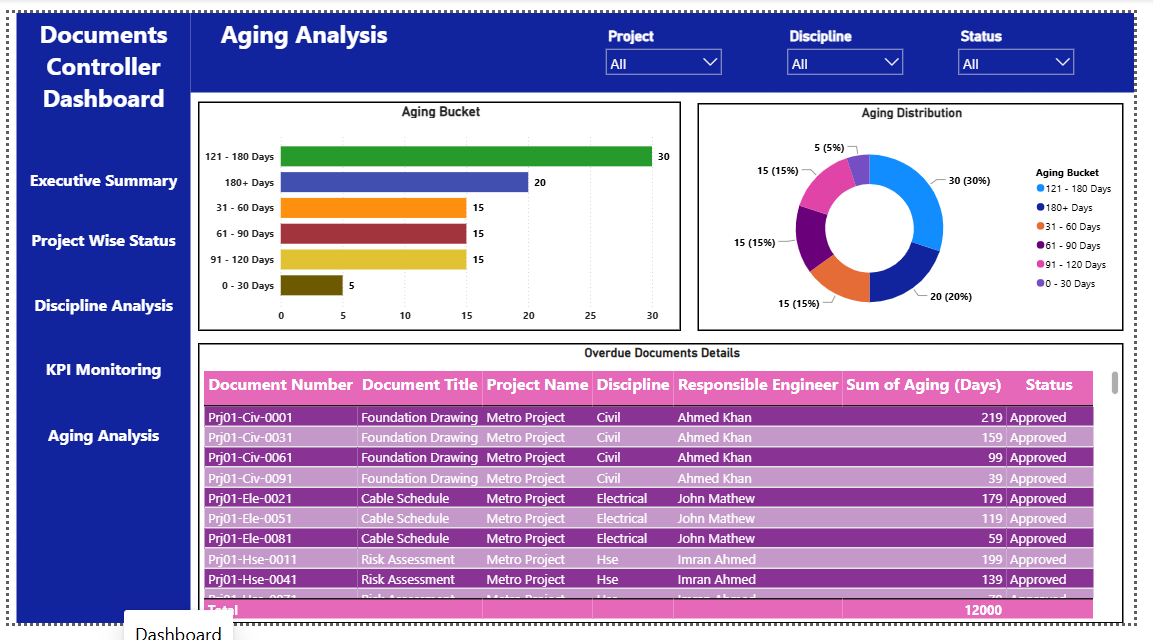

The dashboard page shown, as its layout file describes it:
{"tool":"powerbi","page":{"name":"Aging Analysis","canvas":[1500,813],"ordinal":4},"visuals":[{"type":"group","id":"g1","title":"Group 1","box":[10,0,232,816],"z":0},{"type":"textbox","box":[10,0,232,816],"z":0,"group":"g1"},{"type":"textbox","box":[242,0,1258,106],"z":1000},{"type":"actionButton","box":[10,187.6,232,67.5],"z":1000,"group":"g1"},{"type":"slicer","fields":{"Values":["Document Register.Project Name"]},"box":[786,14,174.1,79.3],"z":2000},{"type":"actionButton","box":[10,268.2,232,67.5],"z":2000,"group":"g1"},{"type":"slicer","fields":{"Values":["Document Register.Status"]},"box":[1256,14,174.1,79.3],"z":3000},{"type":"actionButton","box":[10,354.5,232,67.5],"z":3000,"group":"g1"},{"type":"slicer","fields":{"Values":["Document Register.Discipline"]},"box":[1028,14,174.1,79.3],"z":4000},{"type":"actionButton","box":[10,440.8,232,67.5],"z":4000,"group":"g1"},{"type":"clusteredBarChart","title":"Aging Bucket","fields":{"Category":["Document Register.Aging Bucket"],"Y":["CountNonNull(Document Register.Document Number)"]},"box":[252,118,644,306],"z":5000},{"type":"actionButton","box":[10,527.1,232,67.5],"z":5000,"group":"g1"},{"type":"donutChart","title":"Aging Distribution","fields":{"Category":["Document Register.Aging Bucket"],"Y":["Document Register.Document Count"]},"box":[918,120,568,304],"z":6000},{"type":"tableEx","title":"Overdue Documents Details","fields":{"Values":["Document Register.Document Number","Document Register.Document Title","Document Register.Project Name","Document Register.Discipline","Document Register.Responsible Engineer","Sum(Document Register.Aging (Days))","Document Register.Status"]},"box":[252,440,1234,374],"z":7000}]}

Visuals, with their boxes on the page's 1500x813 design canvas (x1, y1, x2, y2). These are canvas units, not pixel positions in the 1153x640 screenshot, which may show the page scaled, cropped or inside an application window:
"Group 1" group: bbox(10, 0, 242, 816)
textbox: bbox(10, 0, 242, 816)
textbox: bbox(242, 0, 1500, 106)
actionButton: bbox(10, 188, 242, 255)
slicer - Document Register.Project Name: bbox(786, 14, 960, 93)
actionButton: bbox(10, 268, 242, 336)
slicer - Document Register.Status: bbox(1256, 14, 1430, 93)
actionButton: bbox(10, 354, 242, 422)
slicer - Document Register.Discipline: bbox(1028, 14, 1202, 93)
actionButton: bbox(10, 441, 242, 508)
"Aging Bucket" clusteredBarChart: bbox(252, 118, 896, 424)
actionButton: bbox(10, 527, 242, 595)
"Aging Distribution" donutChart: bbox(918, 120, 1486, 424)
"Overdue Documents Details" tableEx: bbox(252, 440, 1486, 814)
